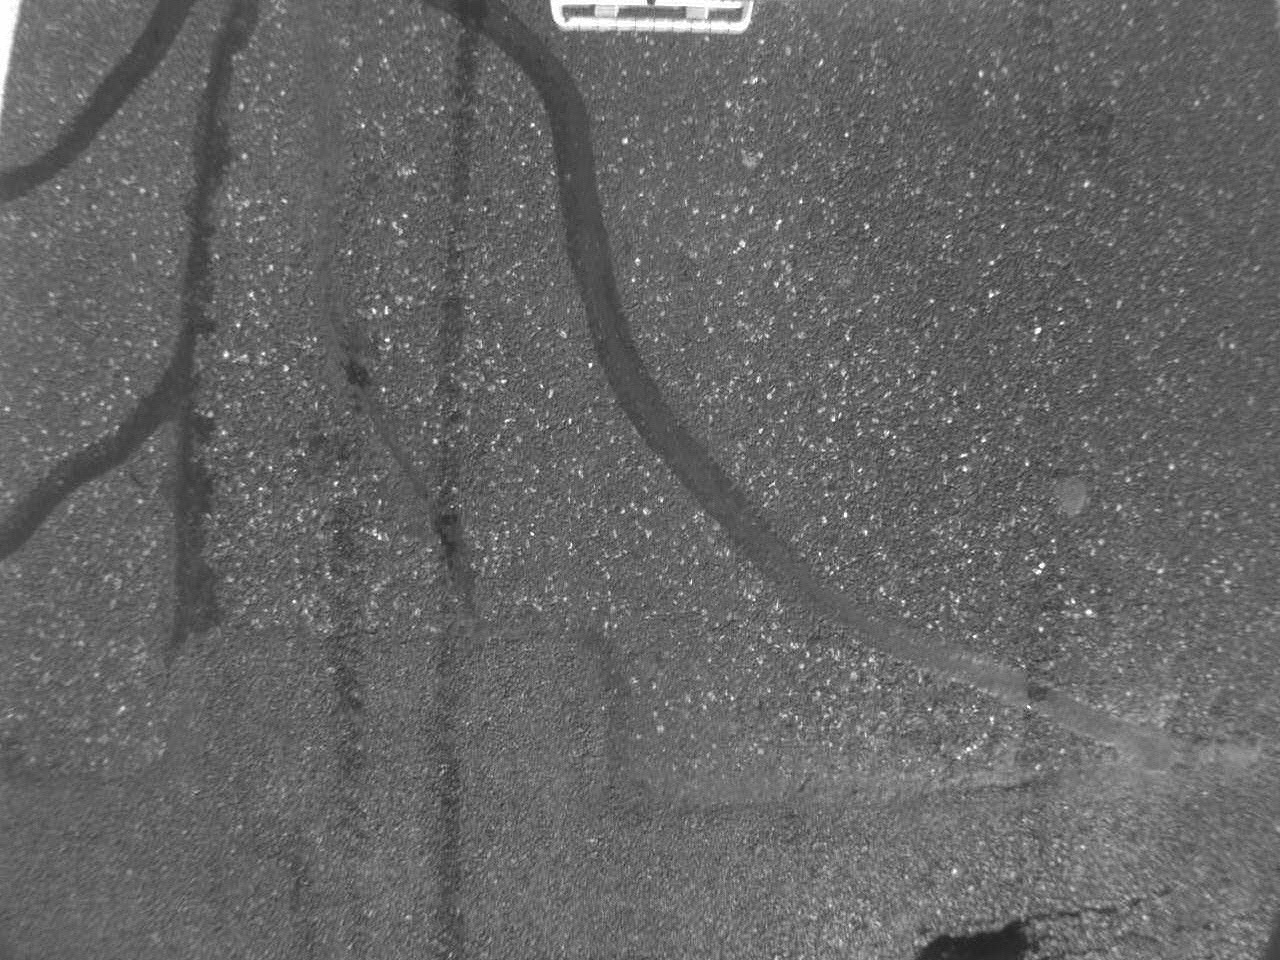sealed: (416, 1, 1272, 797)
